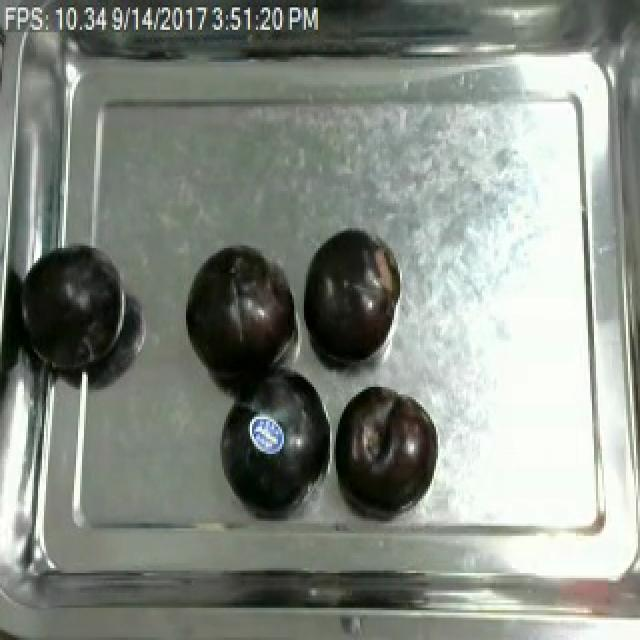Fruit: (212, 360, 336, 516), (178, 241, 302, 387), (296, 221, 402, 372), (330, 379, 442, 514), (18, 241, 132, 372)
